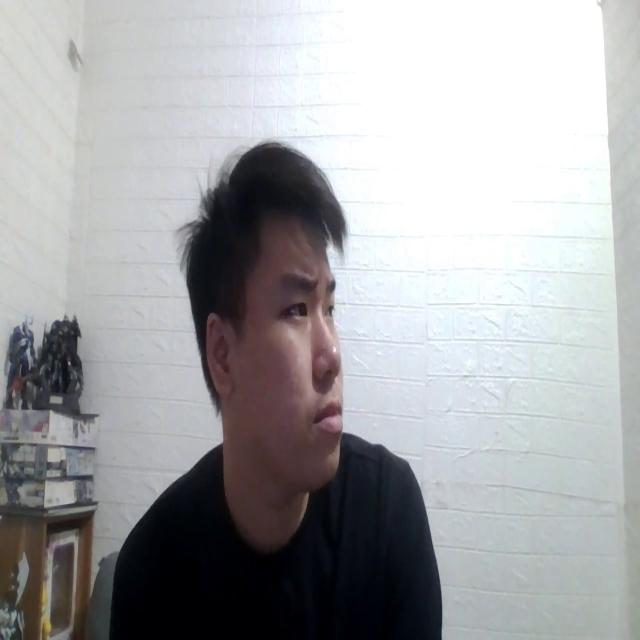student: (111, 138, 442, 640)
